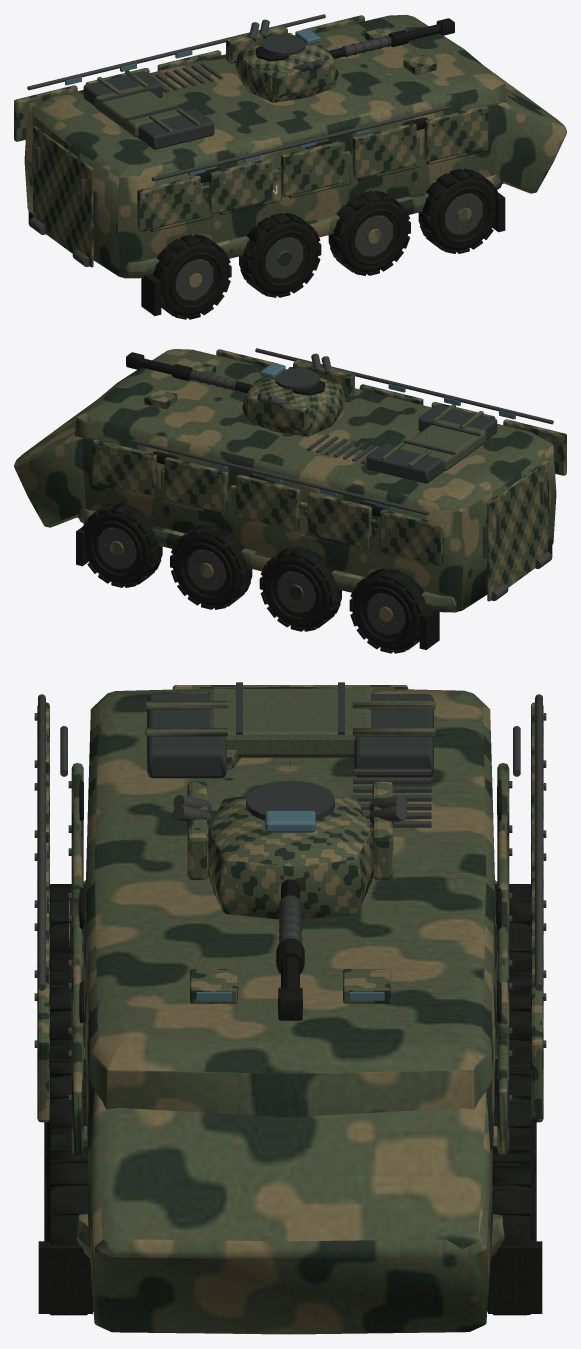
The model's file is apc.glb.
3 renders of one model, top to bottom at view 1: azimuth 30°, elevation 25°; view 2: azimuth 150°, elevation 25°; view 3: azimuth 270°, elevation 25°, orthographic. The views are drawn at different scales.
Visible parts, largest first — view 1: part, V2 field detail • vehicles/apc, Premium details - vehicles/apc, part.001, V2 field detail • Node_4, Premium details - Node_4, part.002, V2 field detail • Node_3; view 2: part, V2 field detail • vehicles/apc, Premium details - vehicles/apc, part.001, V2 field detail • Node_4, Premium details - Node_4, part.002, V2 field detail • Node_3; view 3: part, Premium details - vehicles/apc, V2 field detail • vehicles/apc, part.001, V2 field detail • Node_4, Premium details - Node_4, part.002, V2 field detail • Node_3.
Boxes of the visible parts, bbox=[...] form: part: bbox=[24, 14, 566, 316]; V2 field detail • vehicles/apc: bbox=[14, 14, 505, 315]; Premium details - vehicles/apc: bbox=[32, 70, 499, 319]; part.001: bbox=[235, 43, 338, 102]; V2 field detail • Node_4: bbox=[226, 19, 334, 97]; Premium details - Node_4: bbox=[261, 28, 320, 55]; part.002: bbox=[328, 18, 454, 58]; V2 field detail • Node_3: bbox=[342, 35, 391, 56]; part: bbox=[14, 349, 556, 650]; V2 field detail • vehicles/apc: bbox=[76, 348, 566, 649]; Premium details - vehicles/apc: bbox=[81, 404, 548, 653]; part.001: bbox=[242, 377, 345, 436]; V2 field detail • Node_4: bbox=[247, 353, 354, 431]; Premium details - Node_4: bbox=[260, 363, 319, 389]; part.002: bbox=[126, 352, 252, 392]; V2 field detail • Node_3: bbox=[189, 369, 238, 390]; part: bbox=[47, 686, 533, 1334]; Premium details - vehicles/apc: bbox=[44, 694, 536, 1315]; V2 field detail • vehicles/apc: bbox=[34, 682, 546, 1313]; part.001: bbox=[208, 796, 372, 919]; V2 field detail • Node_4: bbox=[173, 781, 407, 879]; Premium details - Node_4: bbox=[246, 780, 334, 832]; part.002: bbox=[276, 879, 304, 1020]; V2 field detail • Node_3: bbox=[279, 895, 301, 942].
Bounding box in the file's own units: 6.76 × 2.75 × 3.21.
8 materials, 4 textured.
